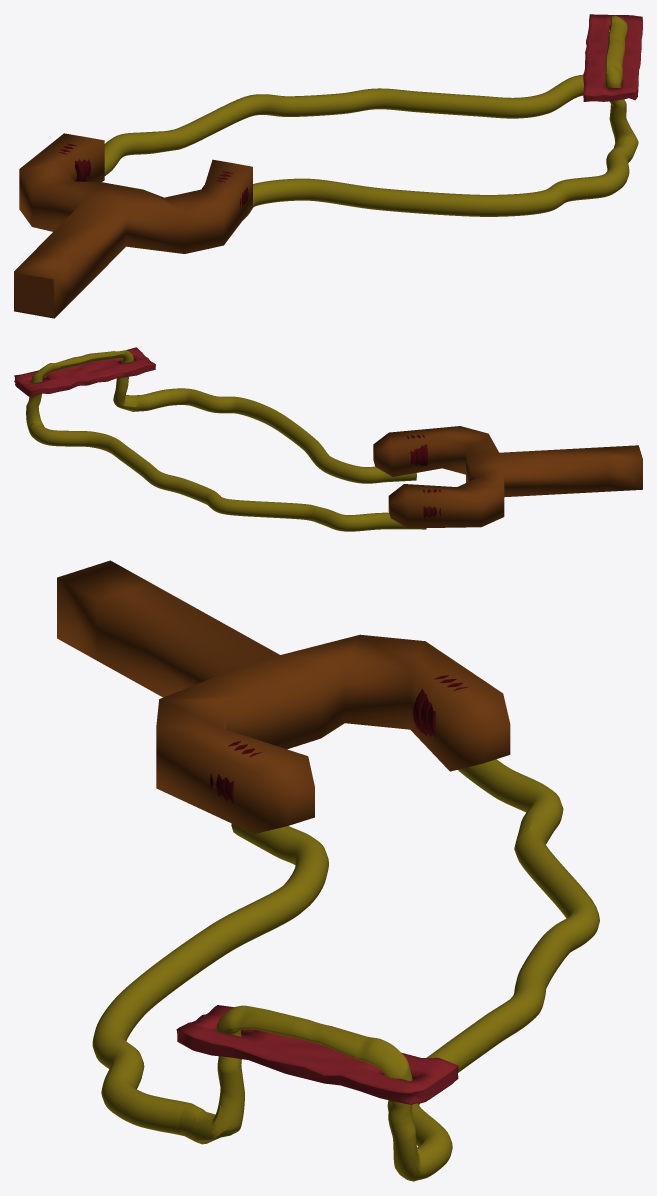
Rendered from resortera.fbx.
3 renders of one model, top to bottom at view 1: azimuth 30°, elevation 25°; view 2: azimuth 150°, elevation 25°; view 3: azimuth 270°, elevation 25°, orthographic. The views are drawn at different scales.
Visible parts, largest first — view 1: resortera; view 2: resortera; view 3: resortera.
Boxes of the visible parts, x1=… form: resortera: x1=14, y1=14, x2=642, y2=318; resortera: x1=14, y1=347, x2=642, y2=531; resortera: x1=57, y1=560, x2=599, y2=1181.
Bounding box in the file's own units: 37.95 × 4.65 × 16.11.
